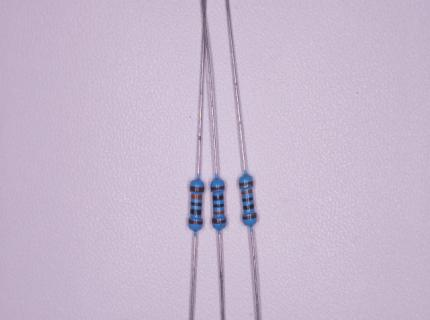Black band: (190, 209, 201, 216), (243, 203, 254, 210), (212, 195, 223, 201), (242, 197, 253, 202), (191, 202, 202, 206), (213, 203, 224, 207)
Brown band: (190, 186, 204, 192), (242, 214, 256, 220), (189, 220, 203, 225), (212, 219, 226, 224), (239, 181, 253, 186), (211, 186, 224, 191)
Orange band: (241, 189, 253, 195), (213, 210, 224, 215), (191, 195, 202, 199)
